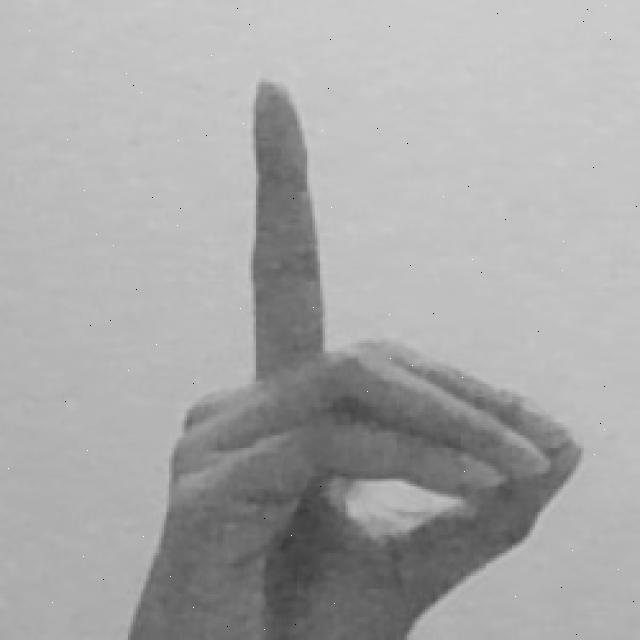D: (125, 77, 592, 640)
